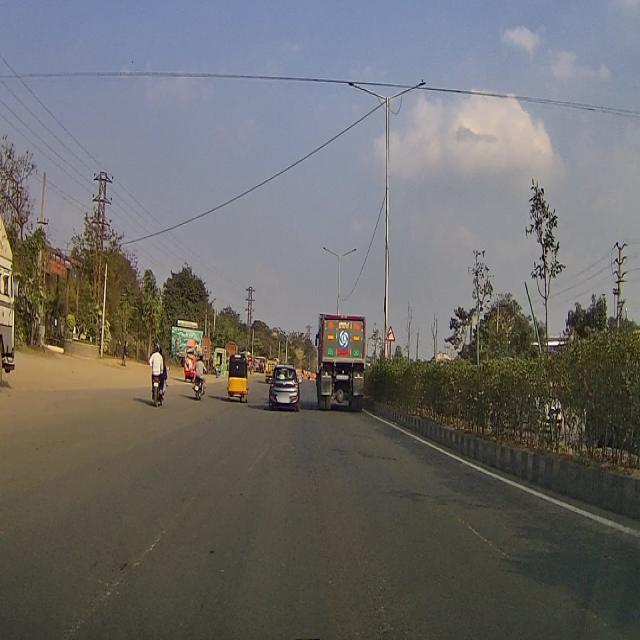right-hand-curve: (385, 323, 394, 340)
